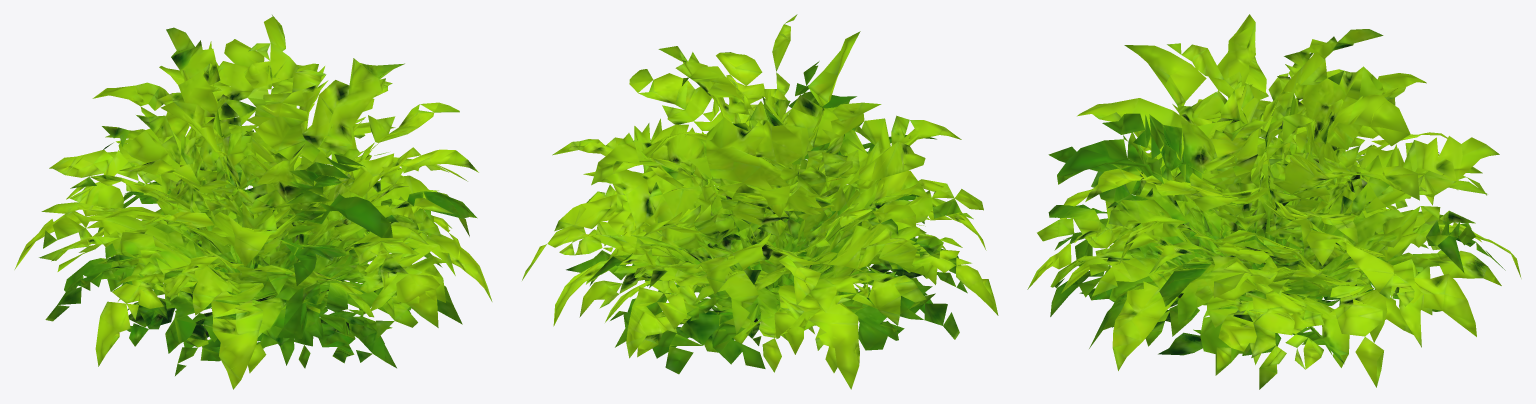
File: prop-fern.glb
3 renders of one model, left to right at view 1: azimuth 30°, elevation 25°; view 2: azimuth 150°, elevation 25°; view 3: azimuth 270°, elevation 25°, orthographic. The views are drawn at different scales.
Size of the model in its own units: 1.87 by 1.13 by 1.89.
1 material, 1 textured.
